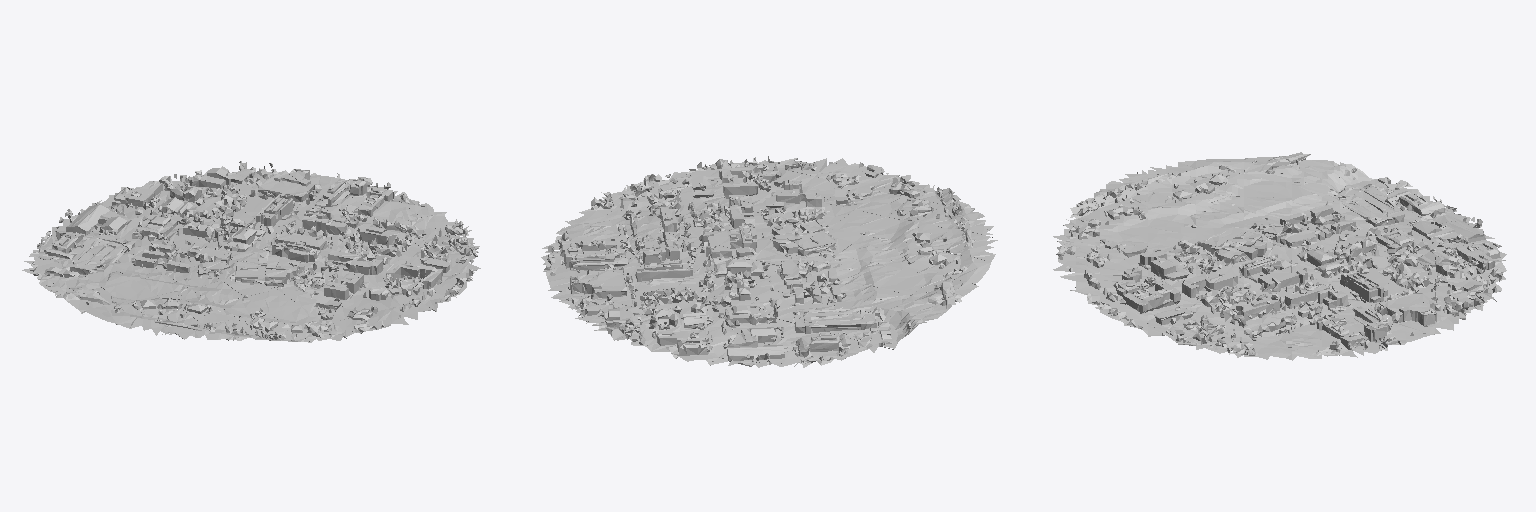
File: maps2.obj
The picture shows the model from 3 angles: view 1: azimuth 30°, elevation 25°; view 2: azimuth 150°, elevation 25°; view 3: azimuth 270°, elevation 25°; orthographic projection.
Visible parts, largest first — view 1: Google_3D_Tiles.001; view 2: Google_3D_Tiles.001; view 3: Google_3D_Tiles.001.
Boxes of the visible parts, <box> form: Google_3D_Tiles.001: <box>22,161,480,342</box>; Google_3D_Tiles.001: <box>541,156,997,367</box>; Google_3D_Tiles.001: <box>1053,152,1506,360</box>.
Size of the model in its own units: 730 by 58.39 by 726.